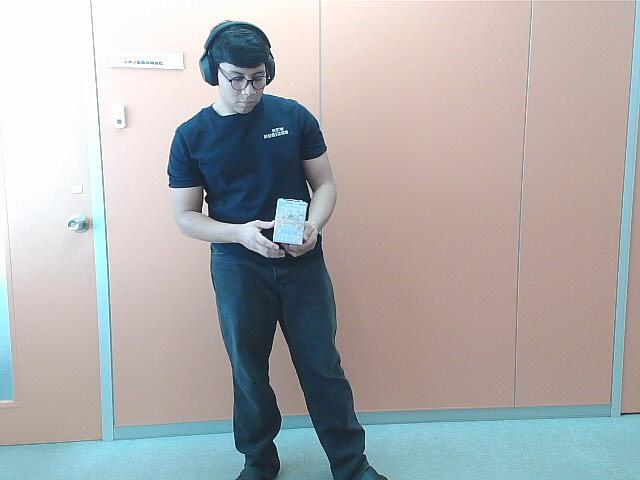Blind_box: (274, 198, 308, 246)
